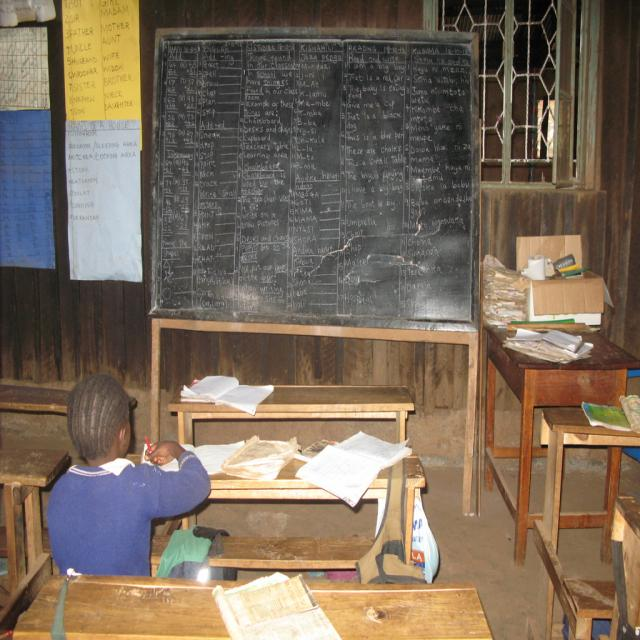desk: (166, 382, 408, 606)
person: (47, 374, 212, 578)
